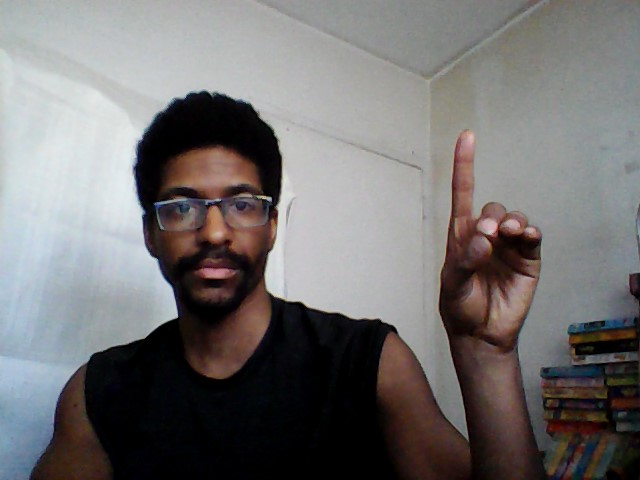d: (436, 124, 548, 348)
